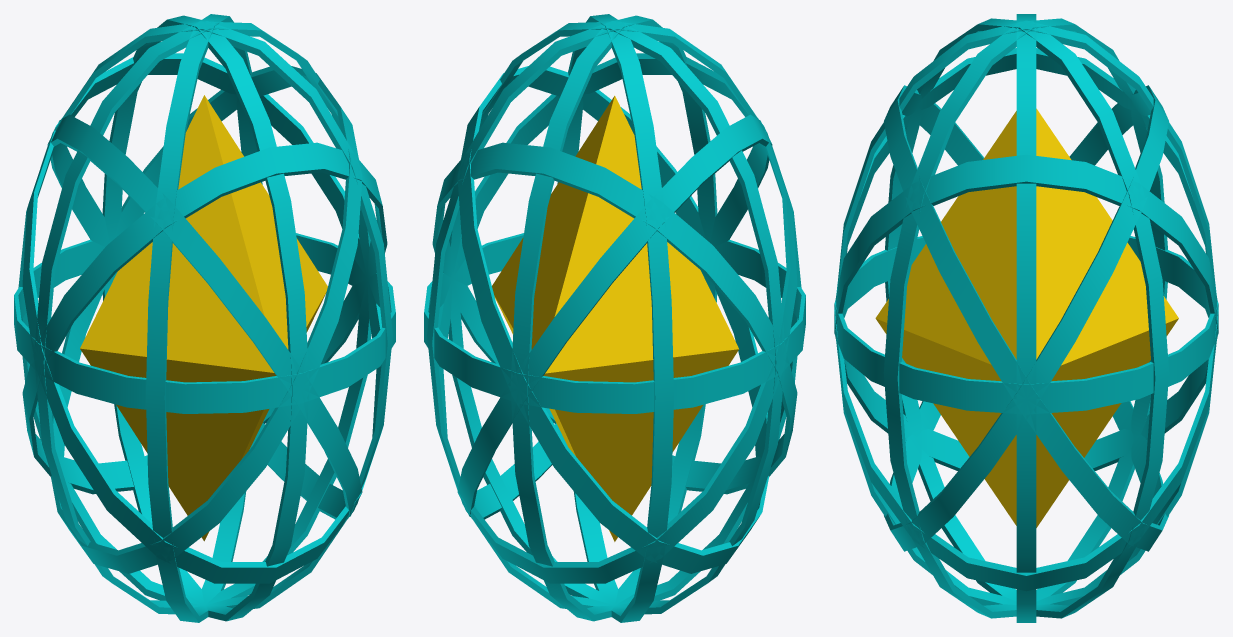
The model's file is Orbe amarillo.fbx.
3 views of the same model, side by side, from view 1: azimuth 30°, elevation 25°; view 2: azimuth 150°, elevation 25°; view 3: azimuth 270°, elevation 25° (orthographic).
Visible parts, largest first — view 1: polySurface68; view 2: polySurface68; view 3: polySurface68.
Part boxes in pixels (x1,y1,x2,y2): polySurface68: (14, 14, 395, 622); polySurface68: (424, 14, 805, 622); polySurface68: (834, 14, 1218, 622).
Bounding box in the file's own units: 0.7308 × 1.23 × 0.7308.
